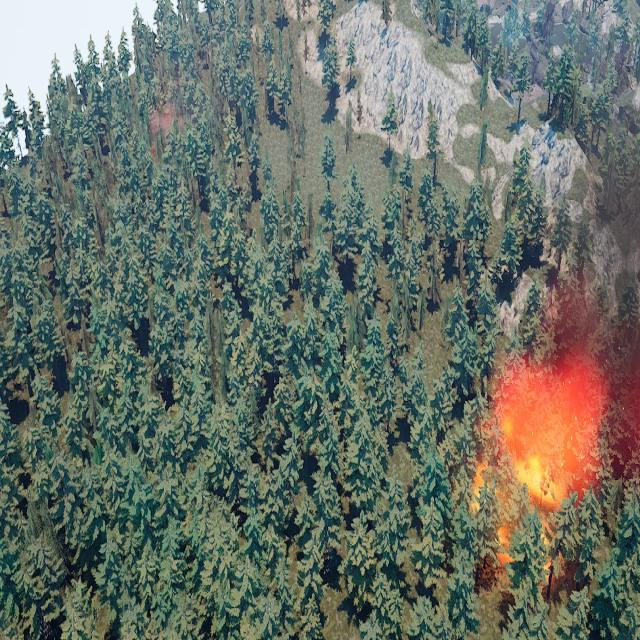fire: (461, 351, 610, 579)
smoke: (486, 114, 640, 498), (151, 99, 180, 148)
